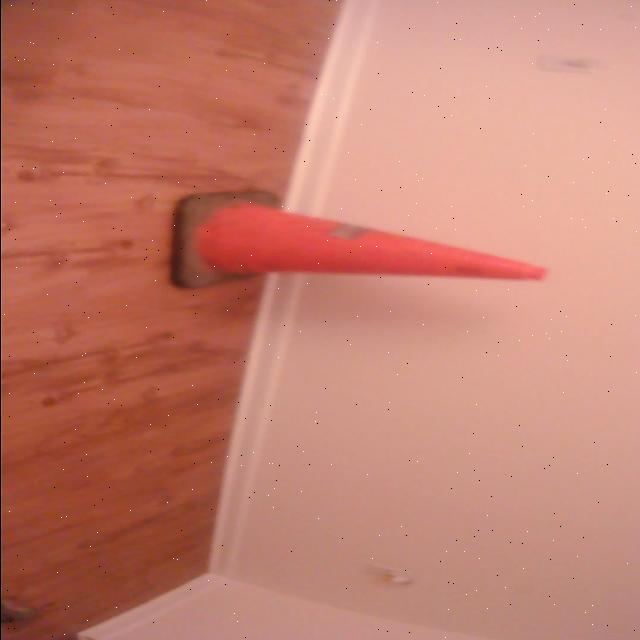traffic cone: (161, 186, 558, 306)
